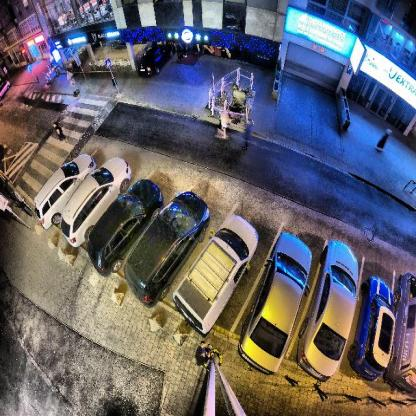occupied: (252, 224, 306, 372), (193, 216, 256, 334), (139, 200, 210, 304), (312, 237, 358, 377), (94, 185, 146, 274), (61, 177, 119, 253), (32, 154, 86, 226), (362, 269, 395, 378), (392, 276, 415, 388)
